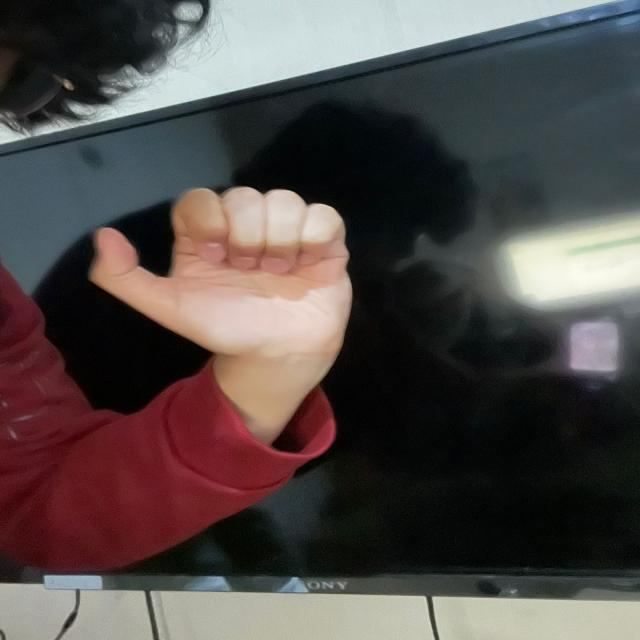E: (84, 180, 361, 359)
